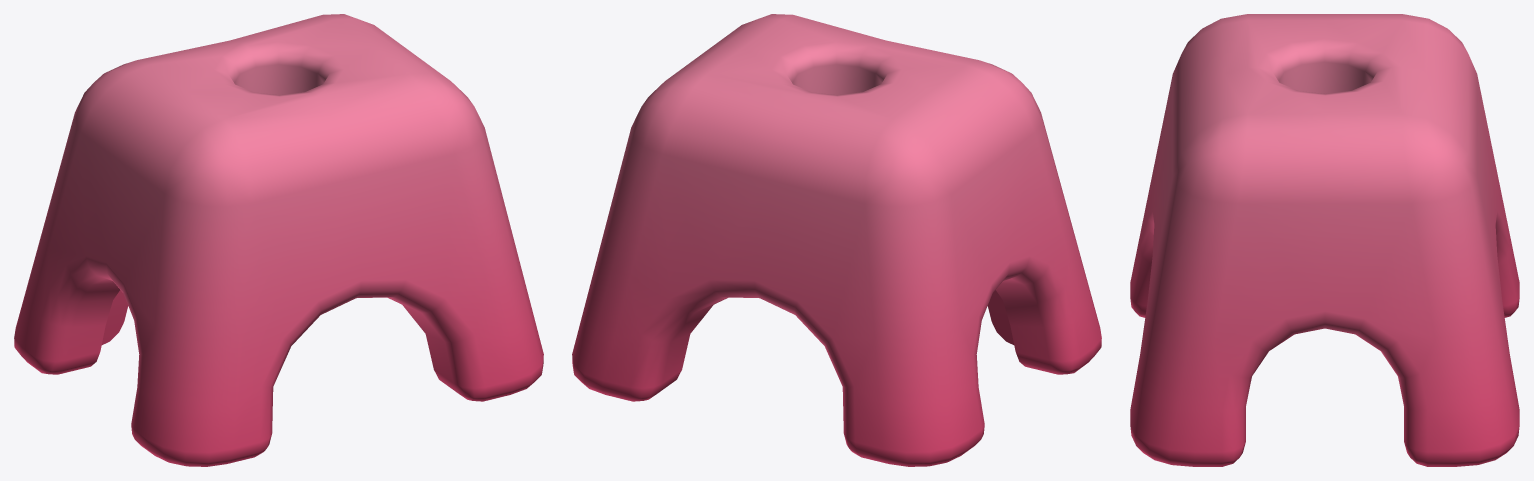
Rendered from Chair_07.glb.
3 views of the same model, side by side, from view 1: azimuth 30°, elevation 25°; view 2: azimuth 150°, elevation 25°; view 3: azimuth 270°, elevation 25° (orthographic). The views are drawn at different scales.
Parts seen in each view (by area): view 1: Chair_07; view 2: Chair_07; view 3: Chair_07.
Boxes of the visible parts, box(x1,y1,x2,y2) form: Chair_07: box(14, 14, 543, 466); Chair_07: box(572, 14, 1101, 466); Chair_07: box(1130, 14, 1519, 466).
Bounding box in the file's own units: 0.4113 × 0.3 × 0.3444.
1 material, 1 textured.
